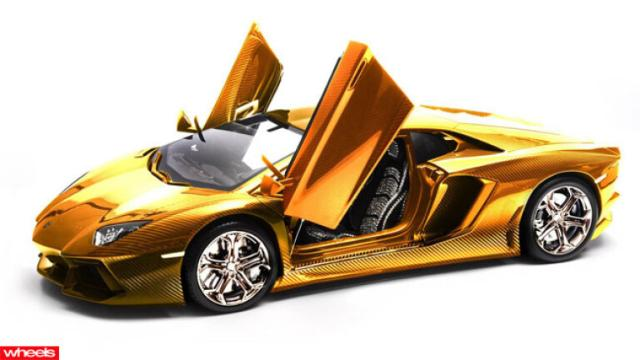lamborghini: (32, 22, 620, 314)
